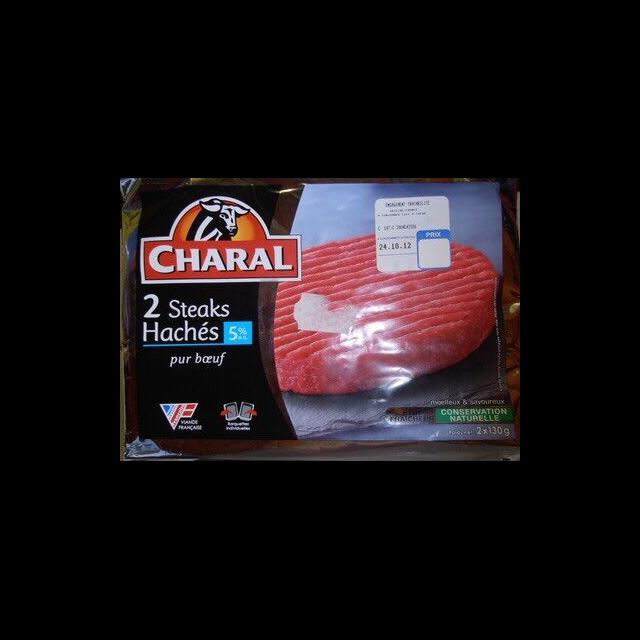beef: (274, 232, 498, 393)
